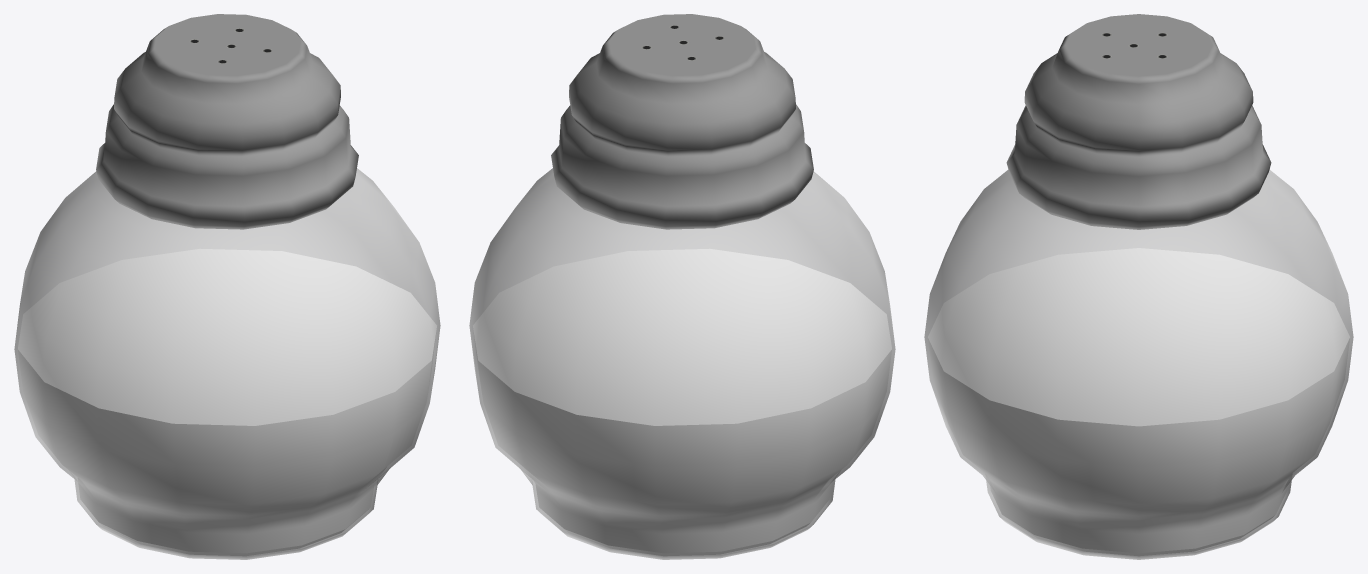
File: salt_half.fbx
3 views of the same model, side by side, from view 1: azimuth 30°, elevation 25°; view 2: azimuth 150°, elevation 25°; view 3: azimuth 270°, elevation 25° (orthographic).
Visible parts, largest first — view 1: salt_half; view 2: salt_half; view 3: salt_half.
Boxes of the visible parts, bbox=[...] form: salt_half: bbox=[14, 14, 440, 559]; salt_half: bbox=[469, 14, 895, 559]; salt_half: bbox=[924, 14, 1353, 559].
Bounding box in the file's own units: 6.53 × 7.66 × 6.53.
3 materials, 1 textured.
